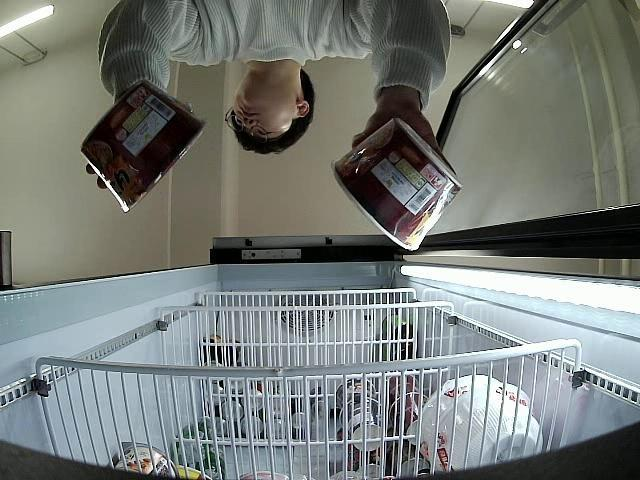05_nuguri_L: (332, 120, 461, 250), (81, 82, 208, 207)
